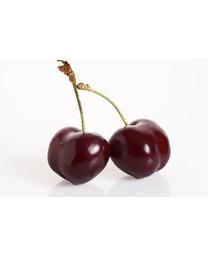cherry: (104, 118, 171, 179), (47, 126, 111, 186)
